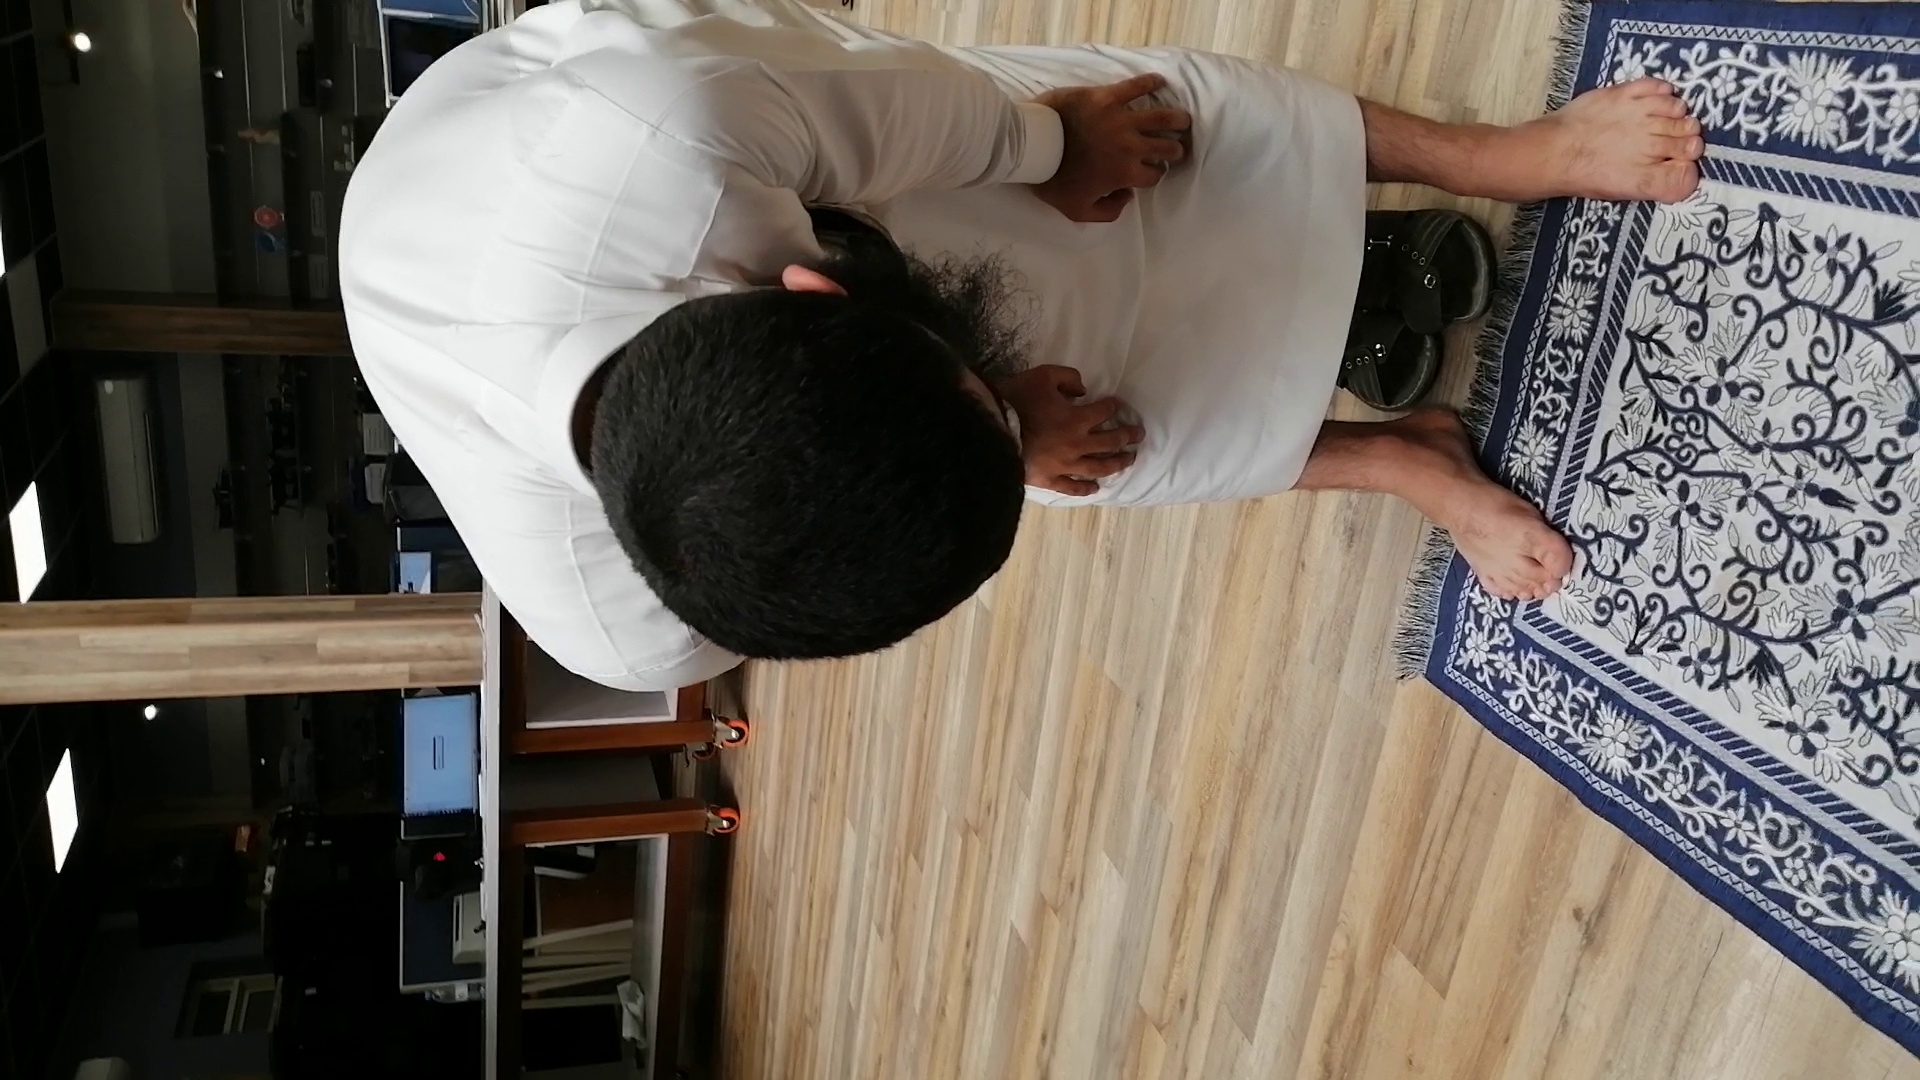ruku: (66, 17, 1783, 762)
